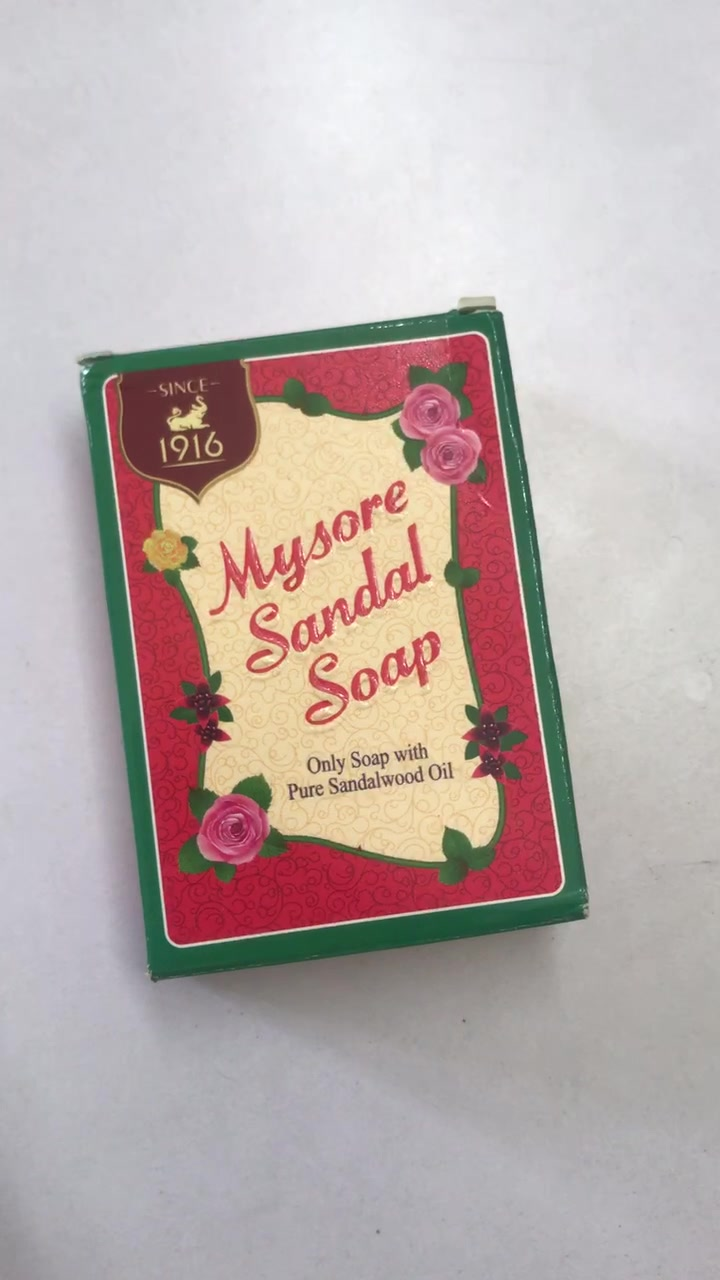mysore sandal soap: (94, 316, 585, 942)
